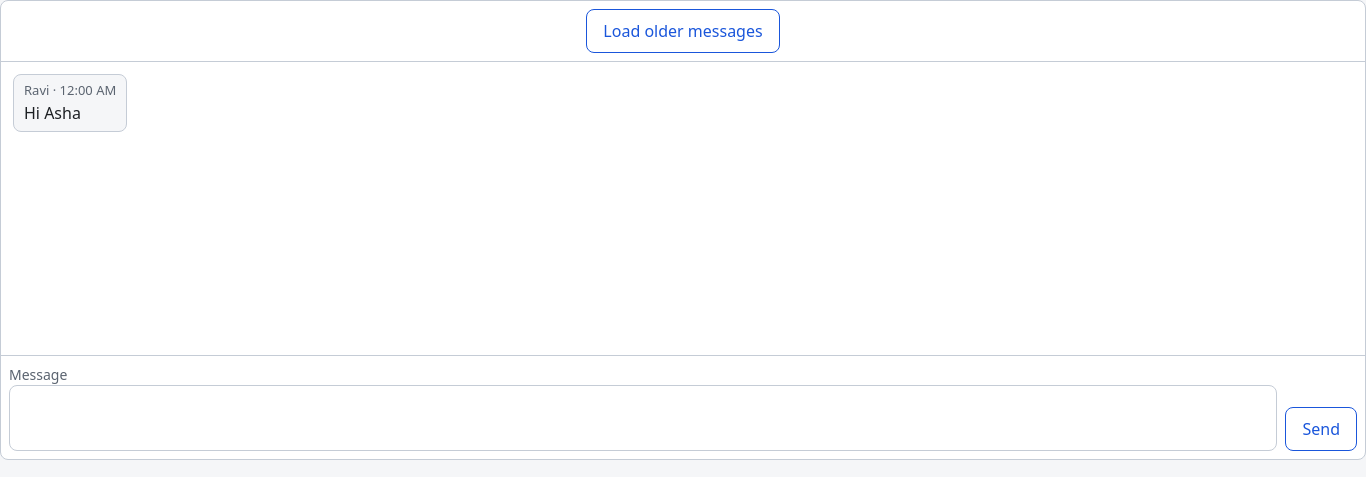
Chat › shows my message as sending at once, and as sent when the server answers
Type "See you at five" into the text box at x=643, y=418, box [9,385,1278,451]
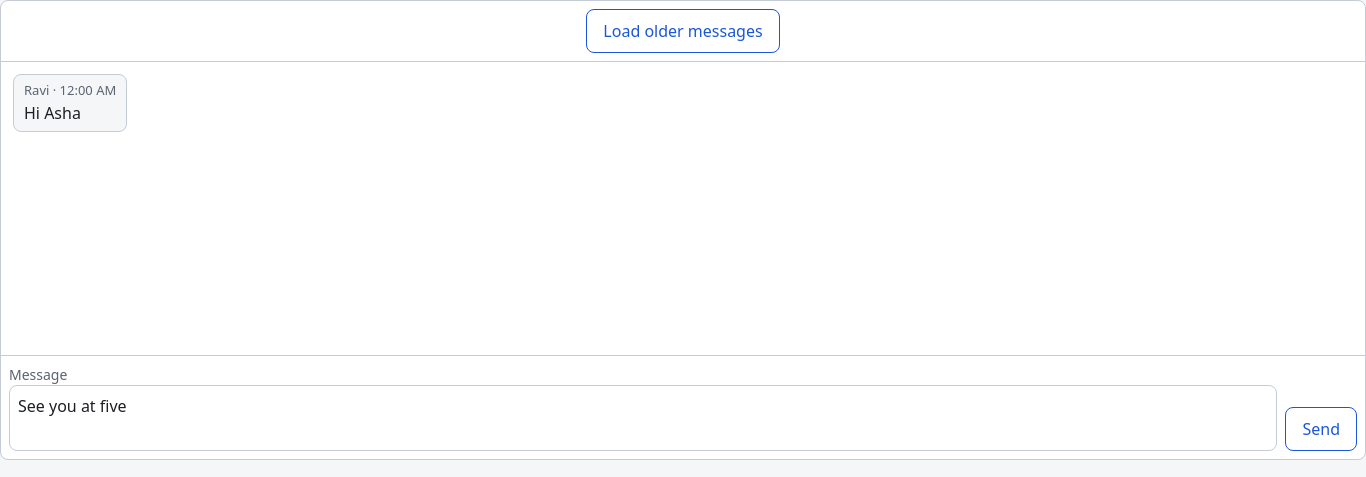
Press Enter in the text box, box [9,385,1278,451]
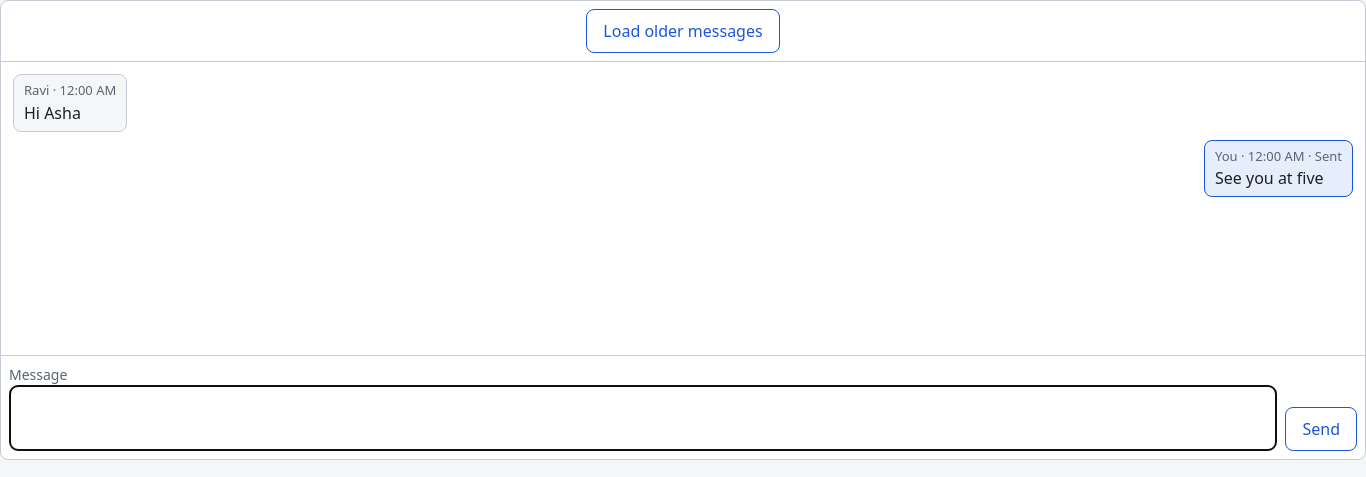
Check: the text "See you at five" is shown, box [1215,166,1342,190]
Check: the text "You · 12:00 AM · Sent" is shown, box [1215,146,1342,166]
